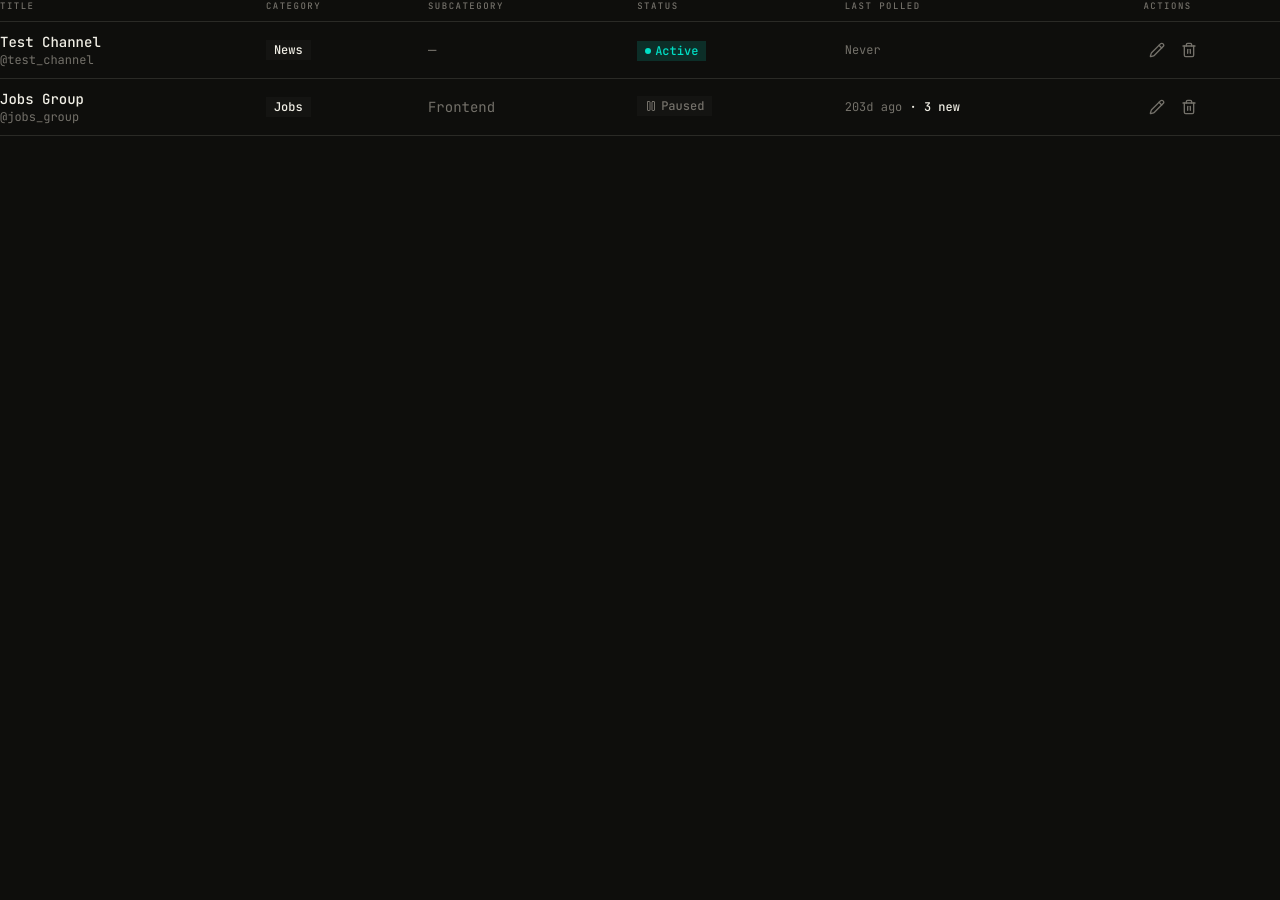
Test: SourcesList › opens delete confirmation dialog
The width and height of the screenshot is (1280, 900).
Step 1. Click the 3rd button → x=1189, y=50, box left=1175, top=36, right=1203, bottom=64
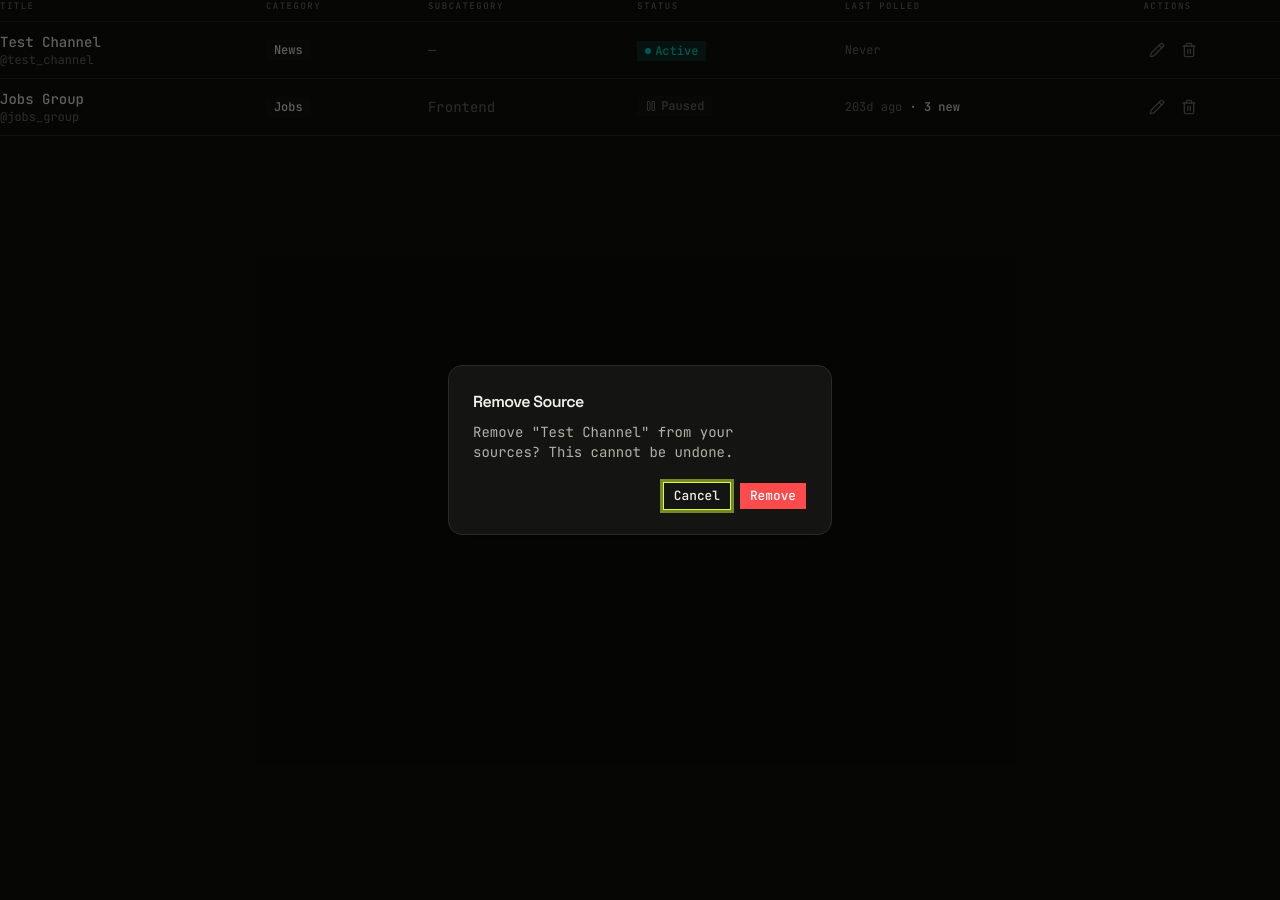
Now the heading "Remove Source" is shown, box left=473, top=391, right=584, bottom=412
